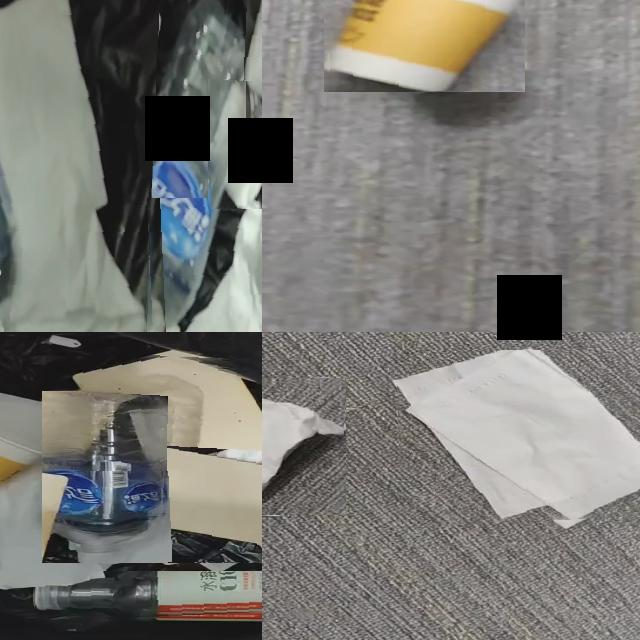bottle: (108, 0, 258, 332), (42, 392, 167, 563), (34, 571, 262, 618)
carton: (73, 355, 262, 471), (141, 442, 262, 546)
dixie_cup: (329, 0, 522, 91)
paper: (0, 0, 150, 332), (396, 350, 640, 522), (0, 466, 103, 590), (208, 82, 262, 209), (0, 393, 58, 454), (197, 550, 262, 574)
